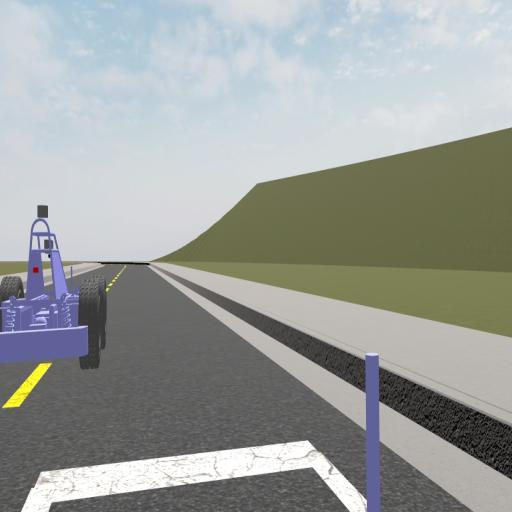ERP-42: (0, 204, 108, 373)
